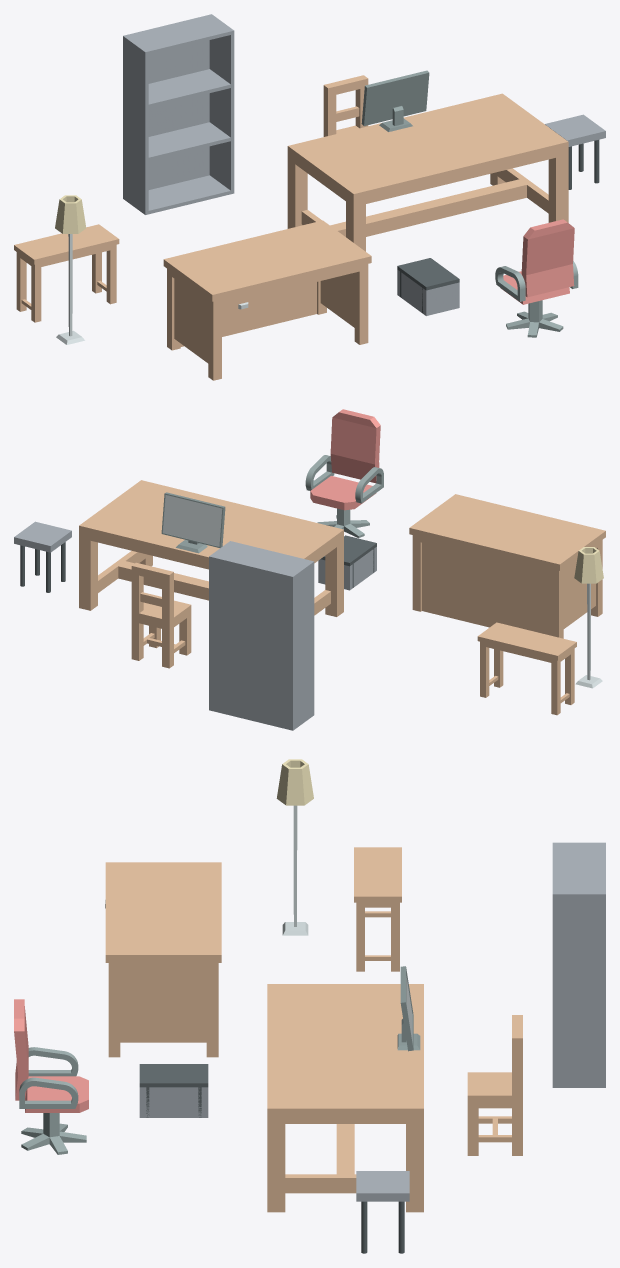
The picture shows the model from 3 angles, top to bottom: view 1: azimuth 30°, elevation 25°; view 2: azimuth 150°, elevation 25°; view 3: azimuth 270°, elevation 25°; orthographic projection. The views are drawn at different scales.
Parts seen in each view (by area): view 1: table_green__table(Clone), desk_blue__desk(Clone), shelf_orange__shelf_orange back, sidetable_brown__sideTable(Clone), deskchair_black__chair, shelf_orange__shelf_orange side_l, shelf_orange__shelf_orange side_r, monitor_gray__computerScreen(Clone), shelf_orange__shelf_orange board3, shelf_orange__shelf_orange board0, shelf_orange__shelf_orange board2, shelf_orange__shelf_orange board1 (+7 smaller); view 2: desk_blue__desk(Clone), table_green__table(Clone), shelf_orange__shelf_orange back, deskchair_black__chair, chair_cyan__chair(Clone), sidetable_brown__sideTable(Clone), shelf_orange__shelf_orange side_l, monitor_gray__computerScreen(Clone), shelf_orange__shelf_orange board3, lamp_white__lampRoundFloor(Clone), stool_purple__stool_purple seat, case_brown__case_brown shell (+3 smaller); view 3: table_green__table(Clone), desk_blue__desk(Clone), shelf_orange__shelf_orange side_r, deskchair_black__chair, sidetable_brown__sideTable(Clone), chair_cyan__chair(Clone), shelf_orange__shelf_orange board3, lamp_white__lampRoundFloor(Clone), case_brown__case_brown shell, stool_purple__stool_purple seat, case_brown__case_brown lid, deskchair_black__chairDesk(Clone) (+1 smaller).
Boxes of the visible parts, bbox=[...] form: table_green__table(Clone): bbox=[287, 93, 568, 251]; desk_blue__desk(Clone): bbox=[163, 220, 371, 380]; shelf_orange__shelf_orange back: bbox=[126, 15, 209, 189]; sidetable_brown__sideTable(Clone): bbox=[14, 224, 119, 322]; deskchair_black__chair: bbox=[495, 219, 578, 304]; shelf_orange__shelf_orange side_l: bbox=[123, 35, 148, 214]; shelf_orange__shelf_orange side_r: bbox=[209, 14, 234, 194]; monitor_gray__computerScreen(Clone): bbox=[361, 70, 429, 131]; shelf_orange__shelf_orange board3: bbox=[128, 16, 230, 54]; shelf_orange__shelf_orange board0: bbox=[148, 175, 230, 214]; shelf_orange__shelf_orange board2: bbox=[148, 69, 230, 107]; shelf_orange__shelf_orange board1: bbox=[148, 122, 230, 160]; desk_blue__desk(Clone): bbox=[409, 494, 605, 638]; table_green__table(Clone): bbox=[79, 480, 343, 616]; shelf_orange__shelf_orange back: bbox=[212, 556, 290, 729]; deskchair_black__chair: bbox=[305, 409, 383, 510]; chair_cyan__chair(Clone): bbox=[131, 562, 191, 668]; sidetable_brown__sideTable(Clone): bbox=[477, 622, 576, 715]; shelf_orange__shelf_orange side_l: bbox=[290, 560, 314, 730]; monitor_gray__computerScreen(Clone): bbox=[161, 492, 225, 553]; shelf_orange__shelf_orange board3: bbox=[214, 541, 310, 575]; lamp_white__lampRoundFloor(Clone): bbox=[574, 547, 603, 688]; stool_purple__stool_purple seat: bbox=[14, 521, 71, 552]; case_brown__case_brown shell: bbox=[318, 547, 376, 590]; table_green__table(Clone): bbox=[267, 984, 423, 1212]; desk_blue__desk(Clone): bbox=[105, 862, 221, 1057]; shelf_orange__shelf_orange side_r: bbox=[552, 892, 605, 1087]; deskchair_black__chair: bbox=[14, 999, 88, 1112]; sidetable_brown__sideTable(Clone): bbox=[354, 847, 401, 971]; chair_cyan__chair(Clone): bbox=[467, 1015, 522, 1155]; shelf_orange__shelf_orange board3: bbox=[552, 844, 602, 892]; lamp_white__lampRoundFloor(Clone): bbox=[276, 759, 313, 935]; case_brown__case_brown shell: bbox=[139, 1087, 208, 1117]; stool_purple__stool_purple seat: bbox=[356, 1171, 409, 1201]; case_brown__case_brown lid: bbox=[139, 1064, 208, 1087]; deskchair_black__chairDesk(Clone): bbox=[21, 1113, 86, 1154].
Size of the model in its own units: 5.15 by 1.4 by 3.88.
